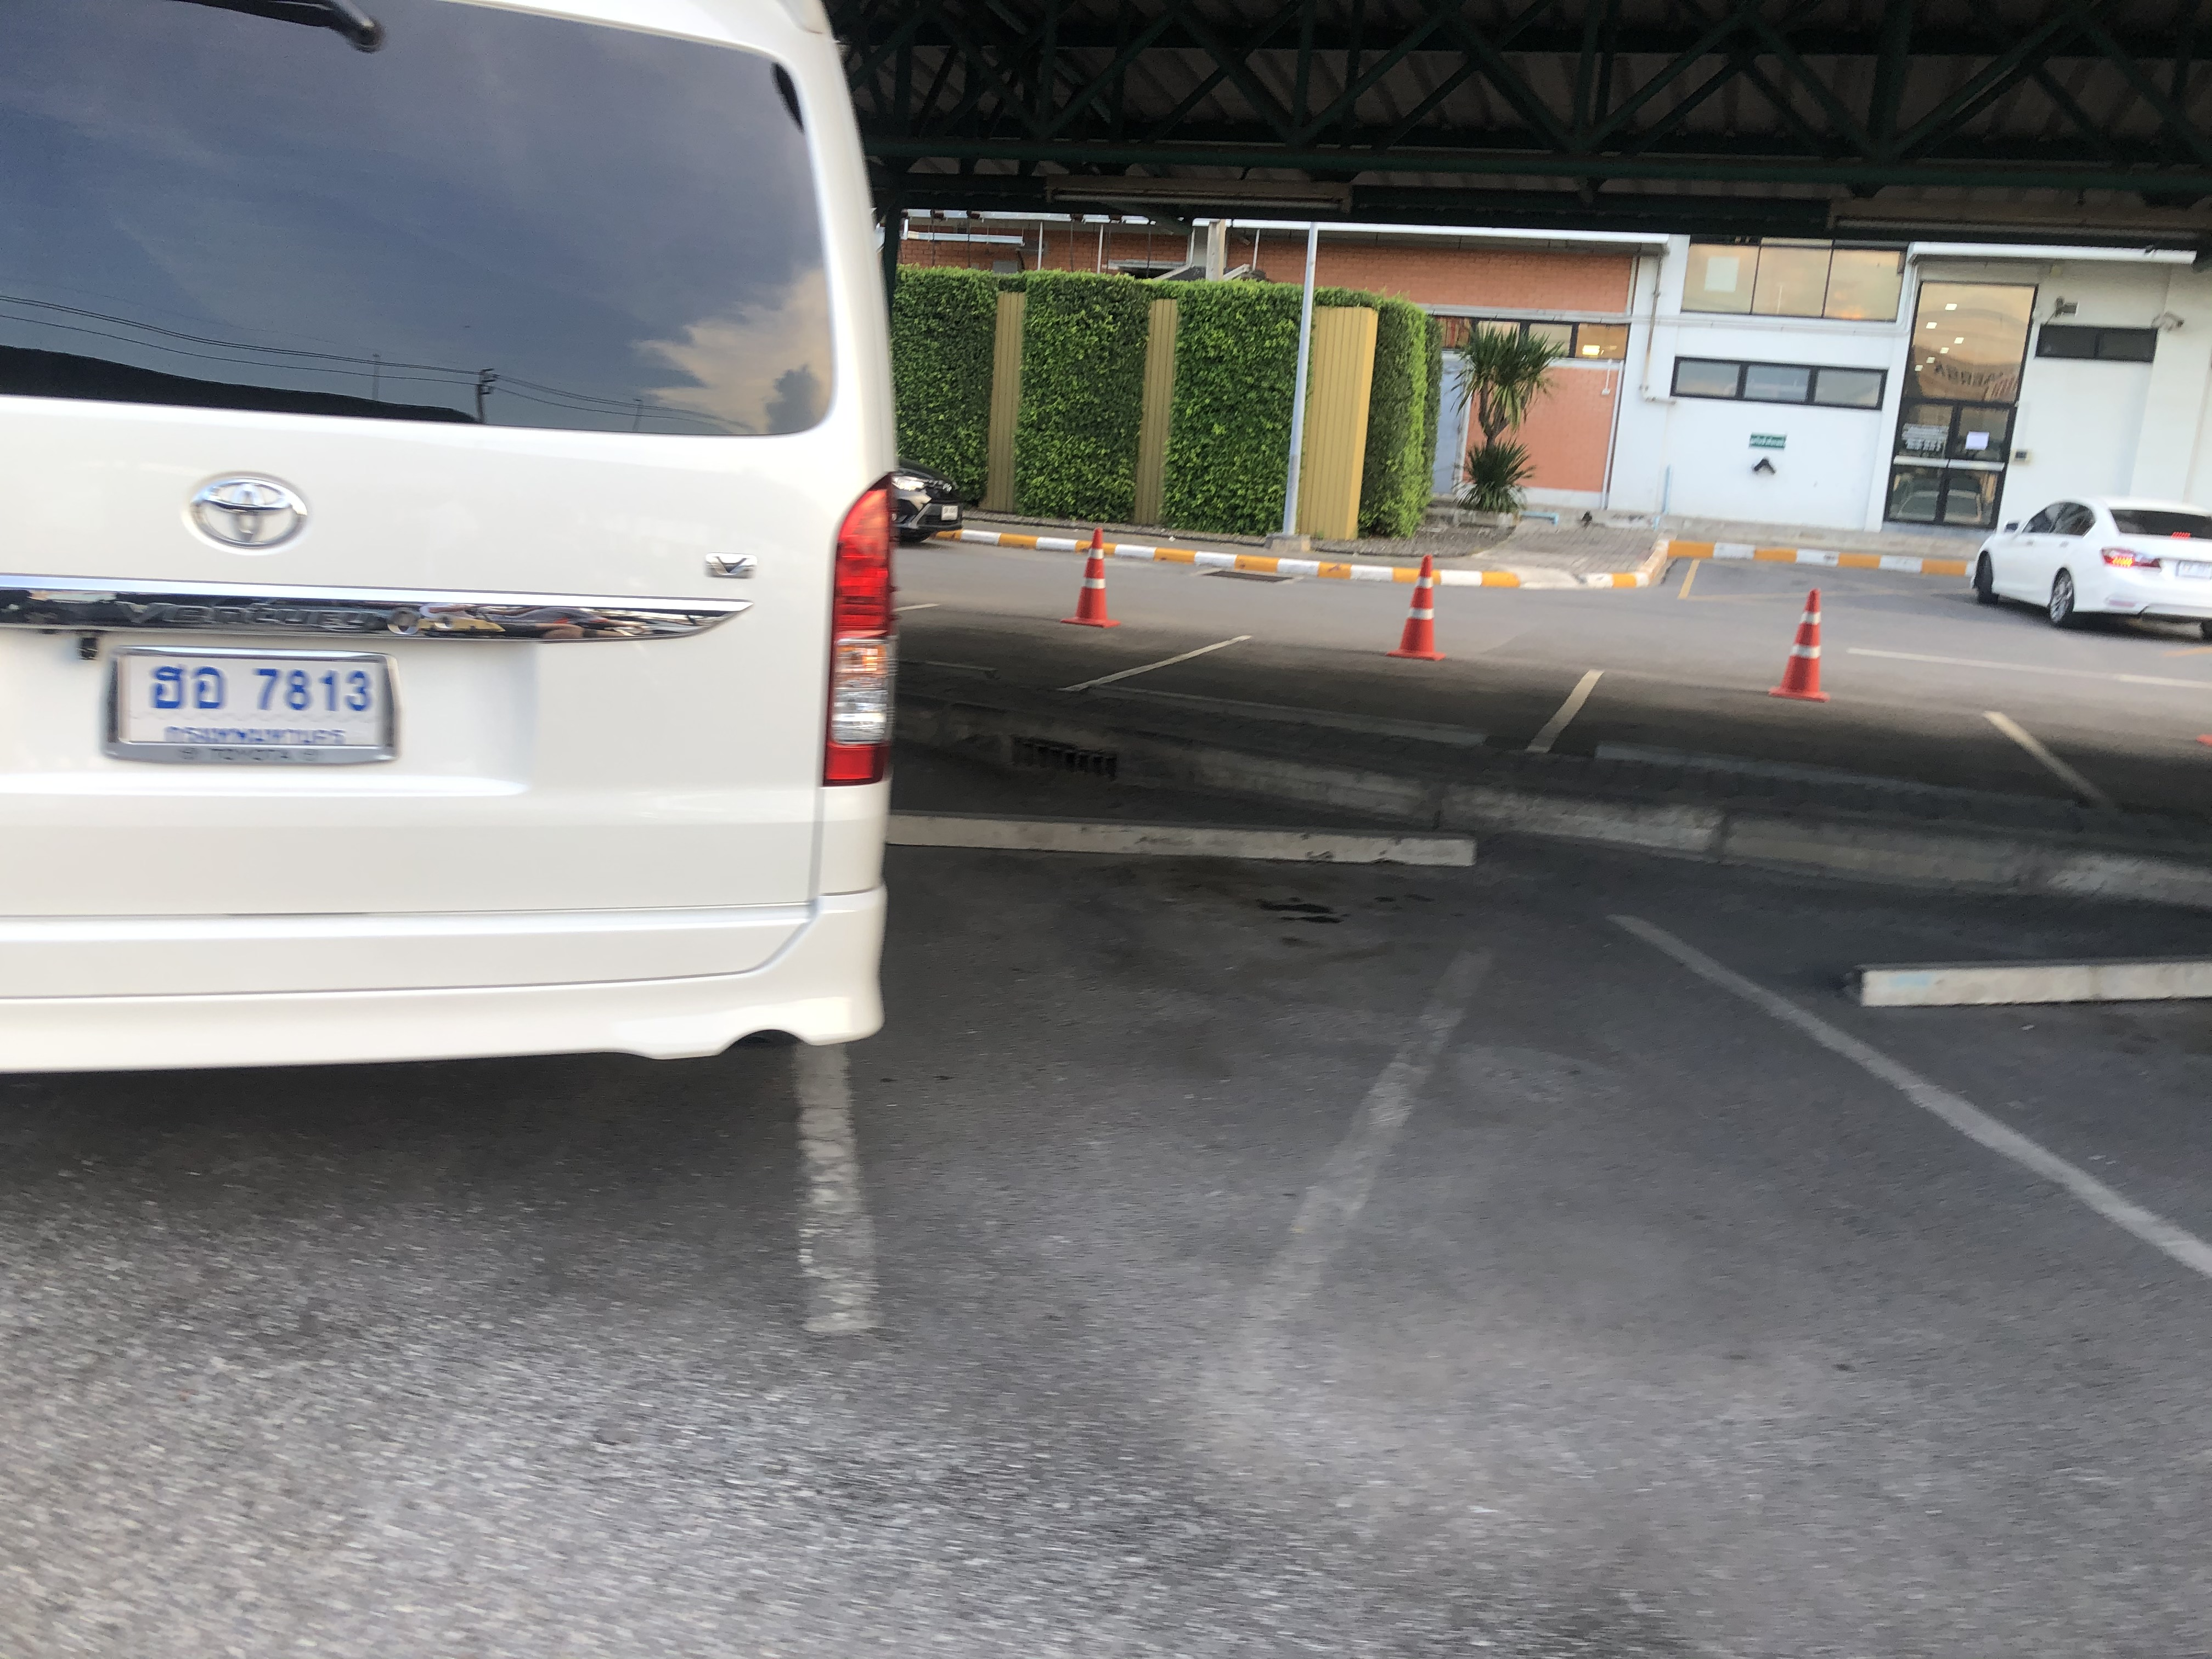in: (124, 652, 383, 751)
out: (101, 645, 402, 767)
